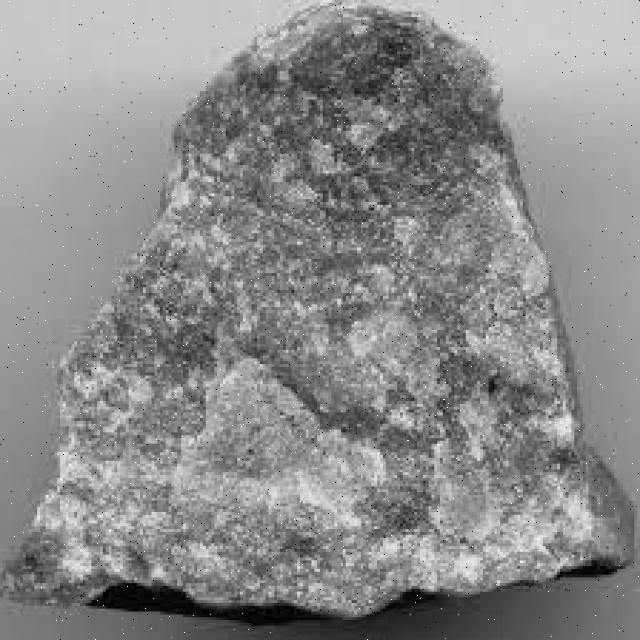Metamorphic: (25, 8, 626, 623)
